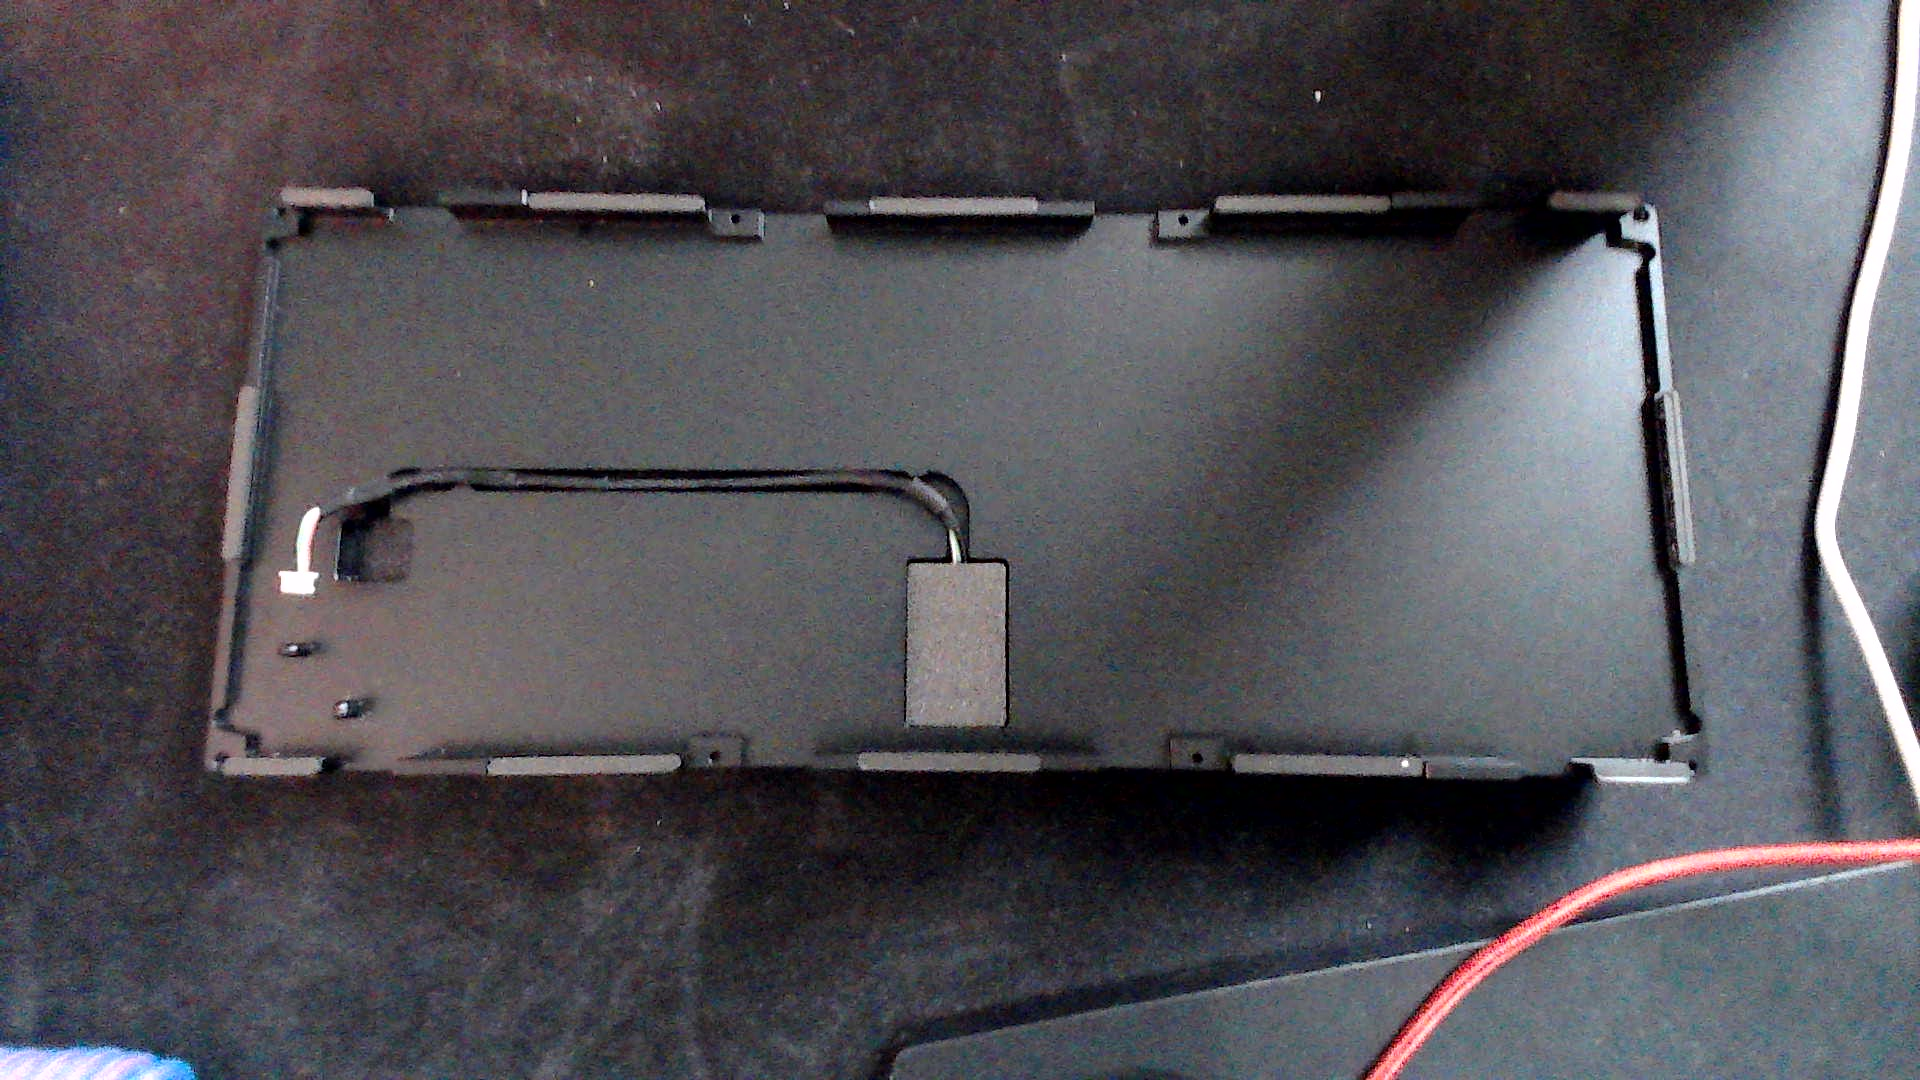case: (179, 142, 1741, 818)
